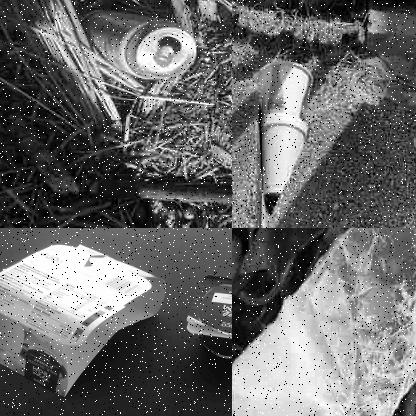metal: (78, 4, 200, 87)
plastic: (232, 228, 415, 415), (0, 246, 161, 395), (249, 65, 321, 192), (181, 265, 231, 369)
